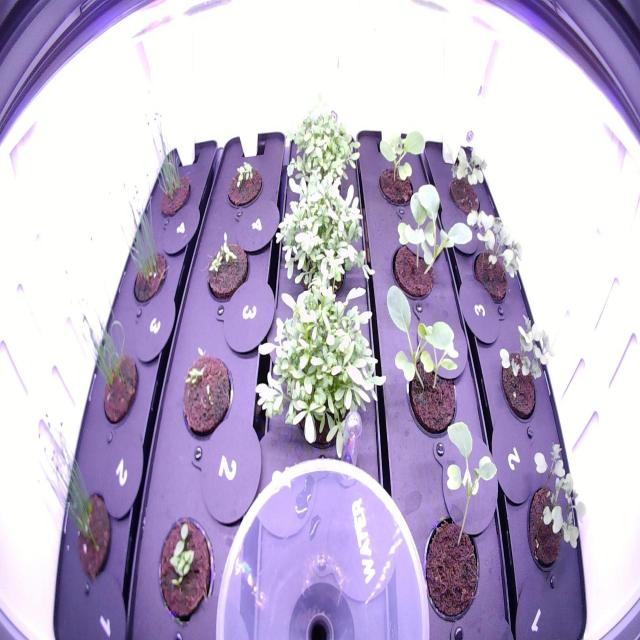germination: (155, 509, 219, 628), (176, 339, 237, 442), (200, 228, 253, 306), (223, 157, 266, 212)
